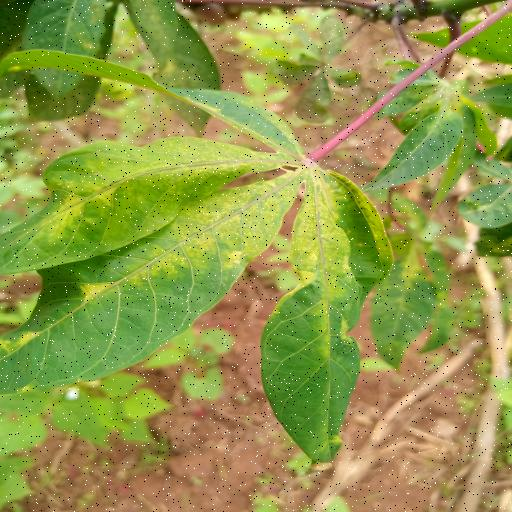Cassava_Mosaic: (2, 43, 414, 472)
